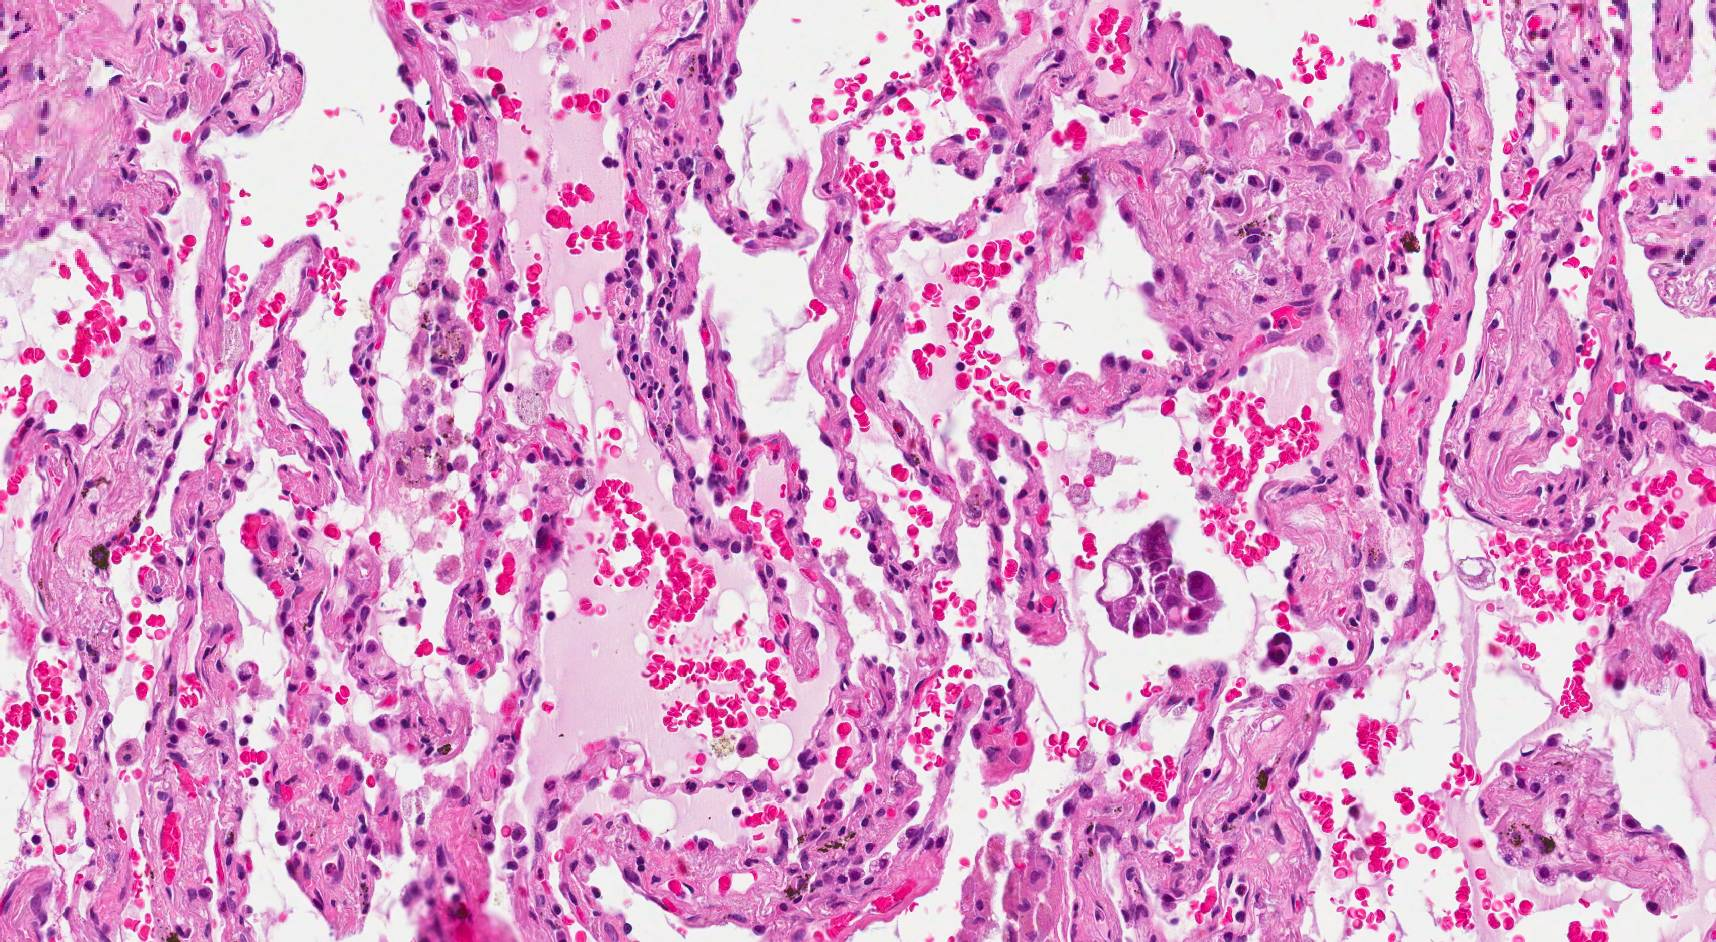stas: (1095, 516, 1230, 645), (1262, 626, 1299, 674)
